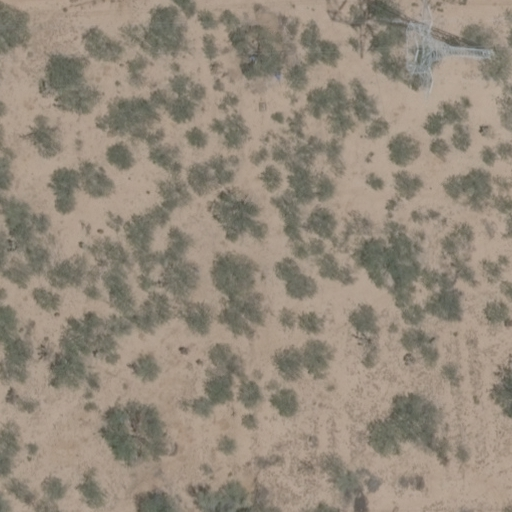TT: (409, 22, 494, 83)
